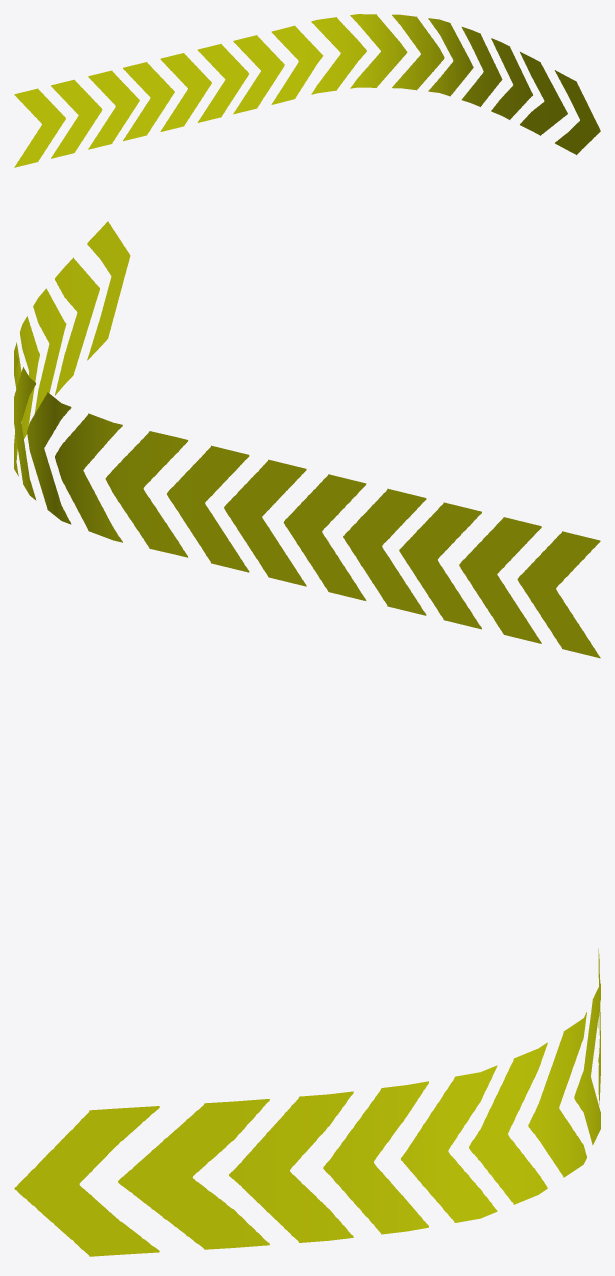
Rendered from arrow (1).fbx.
3 renders of one model, top to bottom at view 1: azimuth 30°, elevation 25°; view 2: azimuth 150°, elevation 25°; view 3: azimuth 270°, elevation 25°, orthographic. The views are drawn at different scales.
Parts seen in each view (by area): view 1: Plane.001; view 2: Plane.001; view 3: Plane.001.
Part boxes in pixels (box(x1,y1,x2,y2)): Plane.001: box(14, 14, 600, 167); Plane.001: box(14, 221, 600, 658); Plane.001: box(14, 948, 600, 1256).
Bounding box in the file's own units: 1254 × 200 × 726.
1 material, 1 textured.
